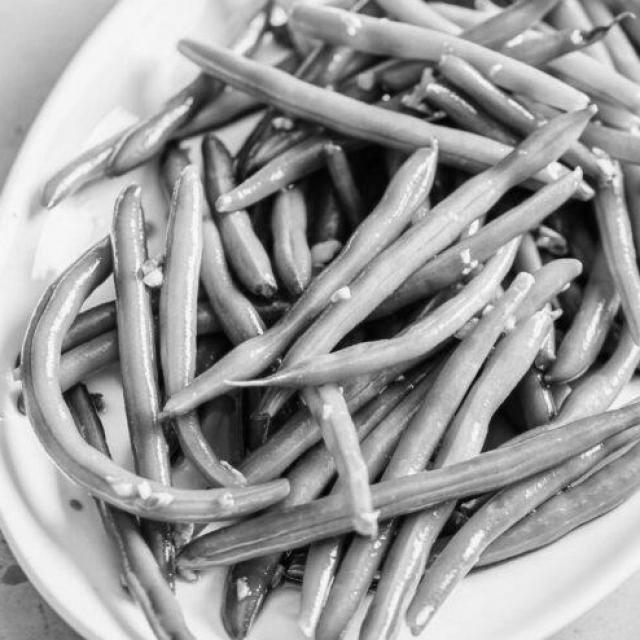Beans: (12, 0, 639, 639)
